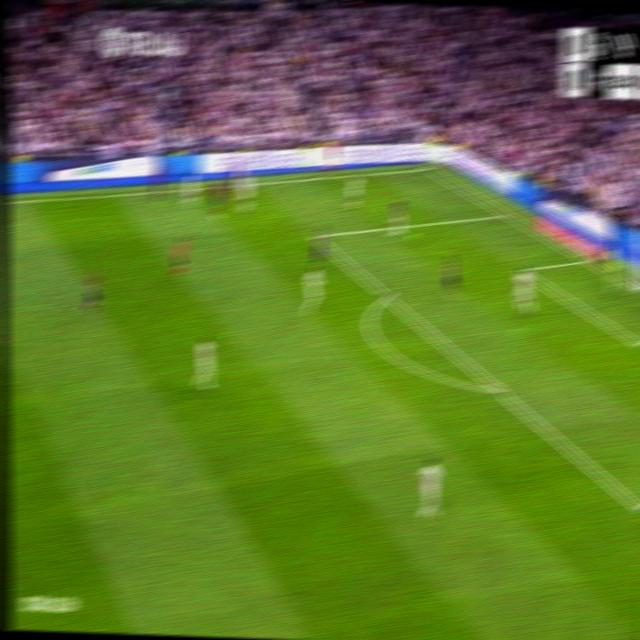bigarea_bottom_inner: (634, 497, 640, 526)
bigarea_top_inner: (308, 226, 322, 244)
bigarea_top_outter: (498, 205, 513, 221)
bottom_arc_area_intersection: (487, 376, 505, 400)
corner: (419, 161, 435, 173)
smallarea_top_outter: (579, 253, 592, 267)
top_arc_area_intersection: (378, 285, 395, 304)
